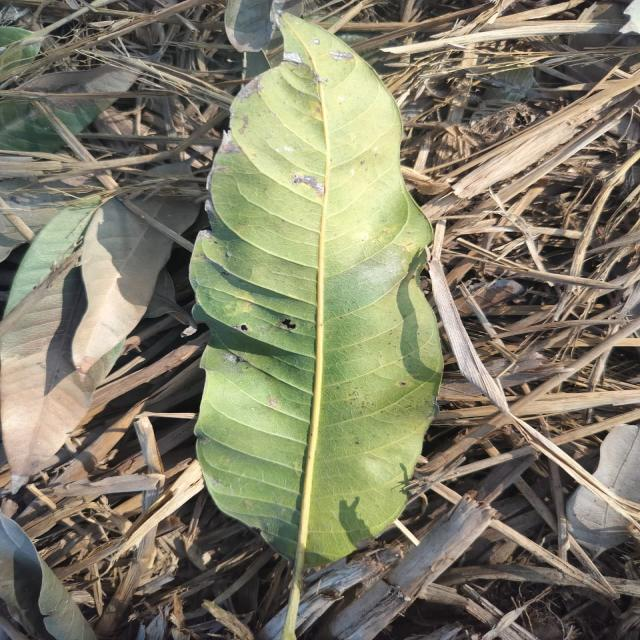Bacterial Cancer: (295, 173, 329, 198)
Powdery Mildew: (286, 49, 307, 65)
